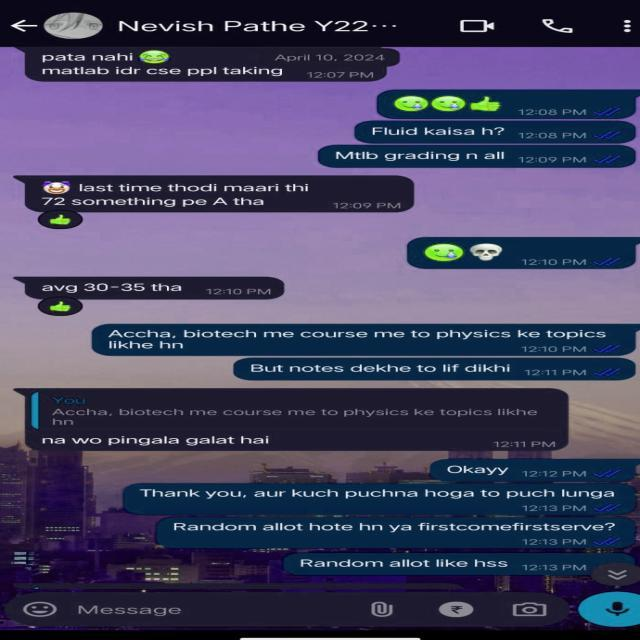scam: (19, 176, 420, 213), (25, 432, 567, 452), (24, 51, 397, 80), (21, 276, 288, 298)
